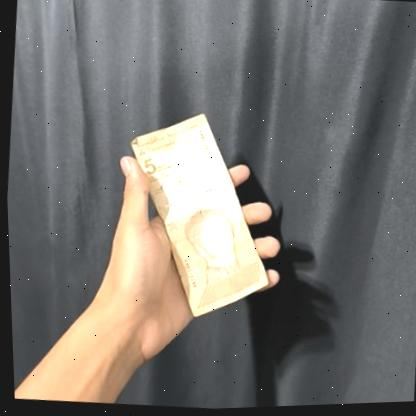five-front-vef: (115, 105, 283, 329)
